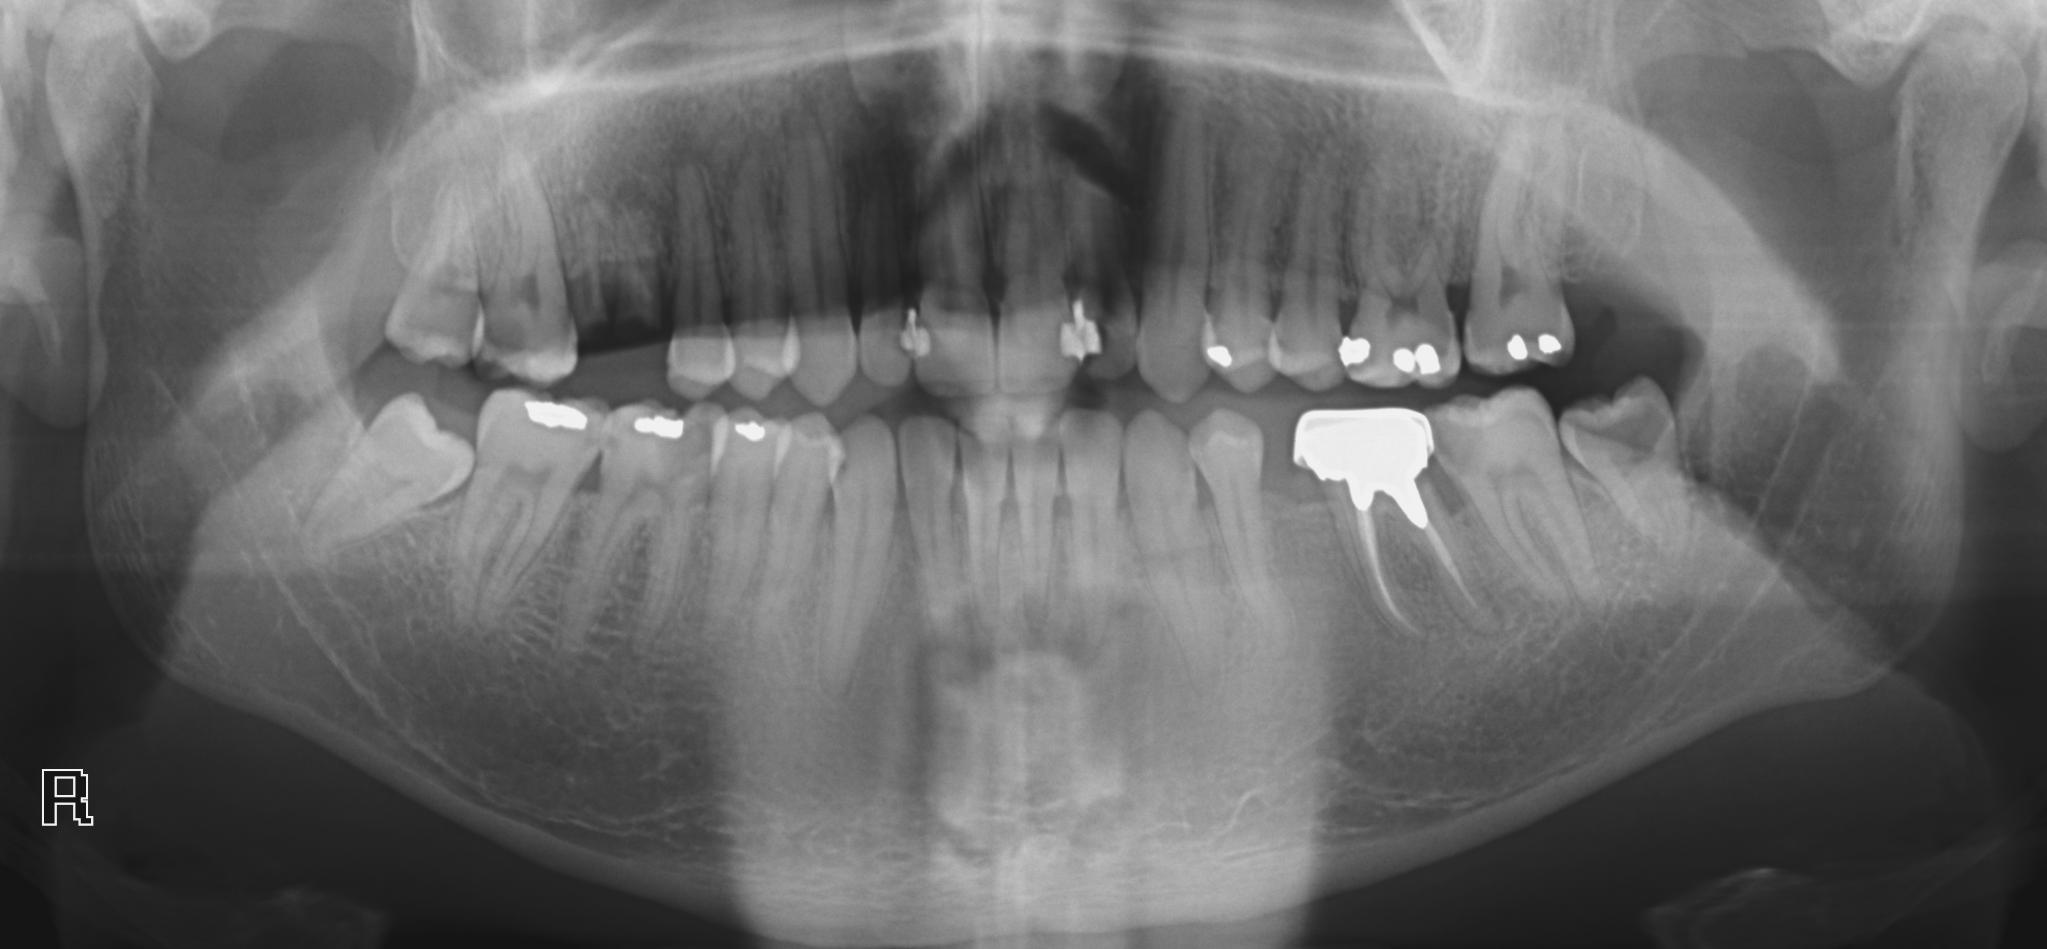Fillings: (449, 388, 599, 610), (1457, 193, 1576, 373), (1337, 232, 1461, 392), (43, 771, 89, 828)
Impacted Tooth: (300, 392, 475, 563)
Implant: (1305, 394, 1480, 658)
